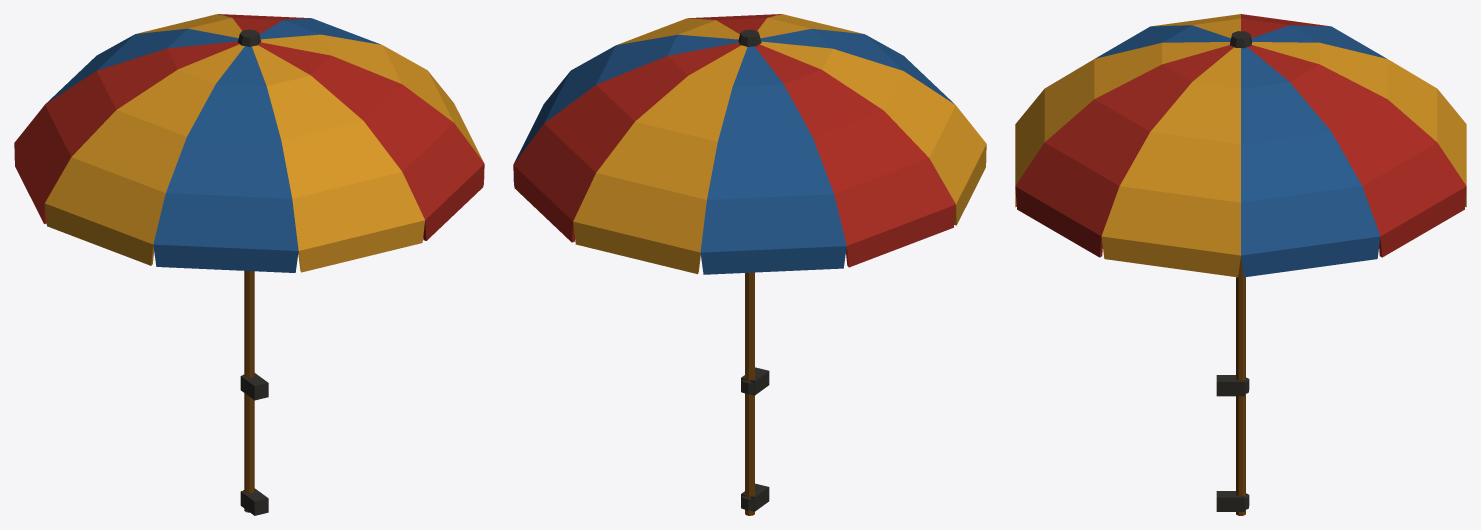
The model's file is SM_Cart_SorbetesUmbrella_01.fbx.
3 views of the same model, side by side, from view 1: azimuth 30°, elevation 25°; view 2: azimuth 150°, elevation 25°; view 3: azimuth 270°, elevation 25° (orthographic).
Visible parts, largest first — view 1: SM_Cart_SorbetesUmbrella_01; view 2: SM_Cart_SorbetesUmbrella_01; view 3: SM_Cart_SorbetesUmbrella_01.
Boxes of the visible parts, x1=… form: SM_Cart_SorbetesUmbrella_01: x1=14, y1=14, x2=484, y2=515; SM_Cart_SorbetesUmbrella_01: x1=513, y1=14, x2=986, y2=515; SM_Cart_SorbetesUmbrella_01: x1=1015, y1=14, x2=1466, y2=515.
Bounding box in the file's own units: 1.65 × 1.84 × 1.57.
Materials: 1 (1 with a texture image).
